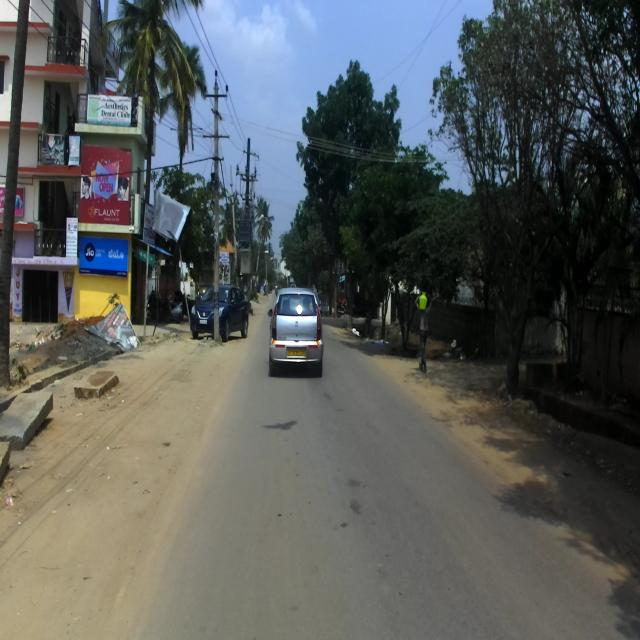car ahead at: (272, 283, 322, 374)
electric pole ahead at: (200, 68, 238, 356)
person ahead at: (405, 273, 433, 372)
